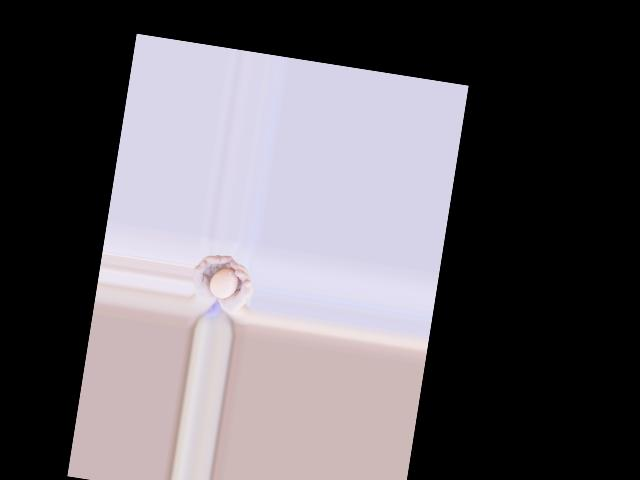egg: (207, 266, 239, 300)
